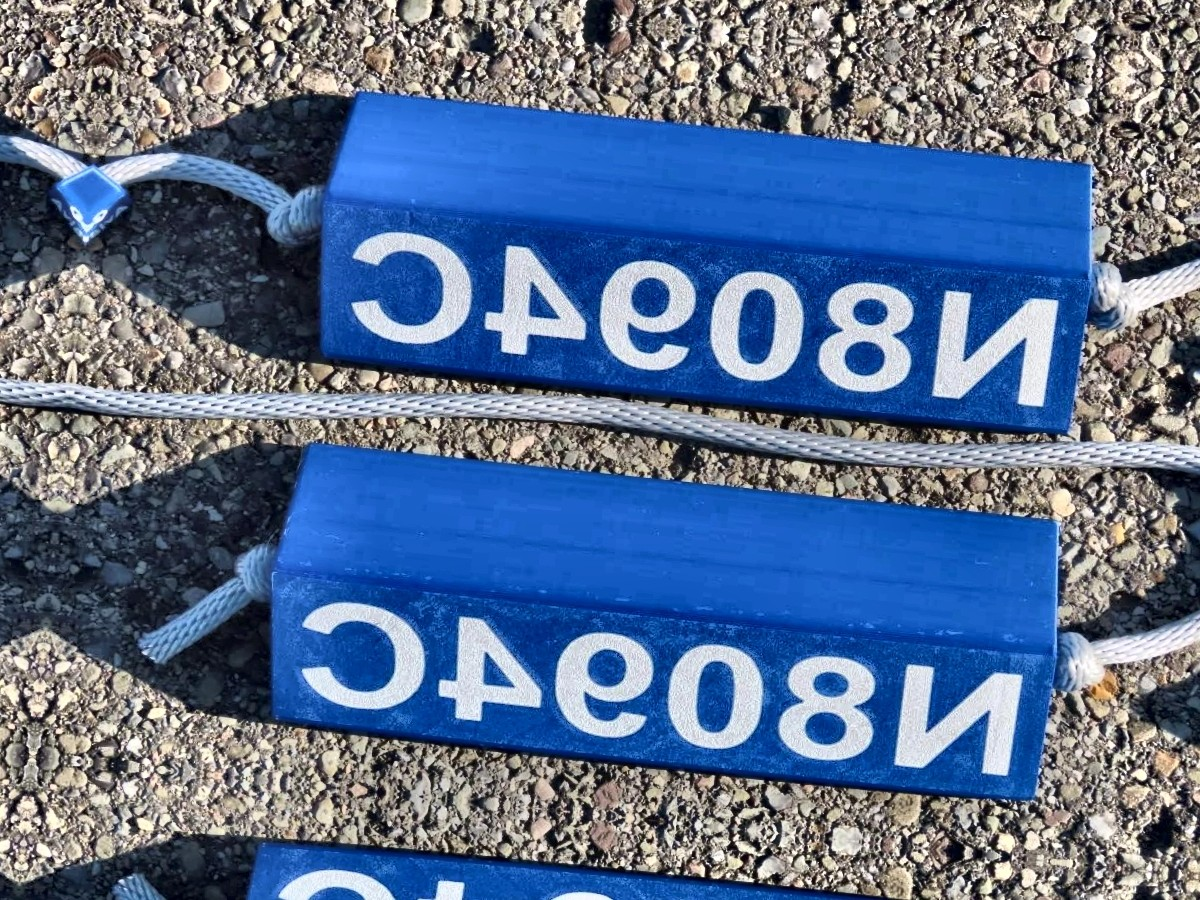chock: (258, 430, 1076, 807), (312, 78, 1110, 441)
